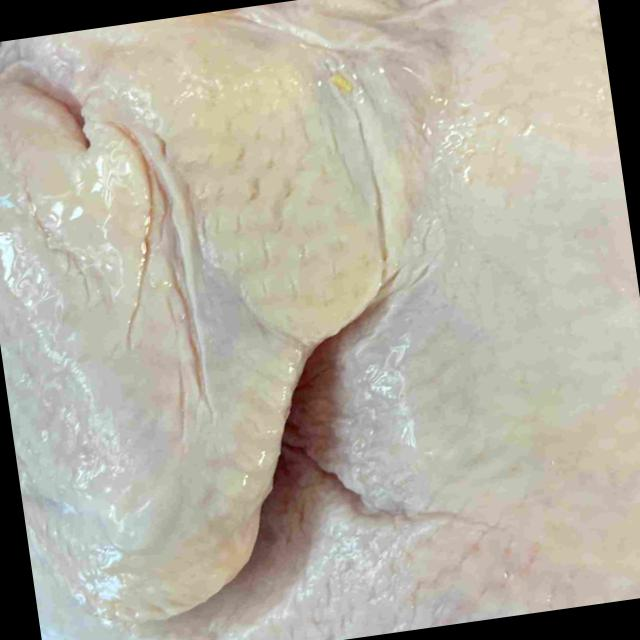back: (212, 16, 640, 640)
leg: (29, 552, 72, 640)
wing: (0, 9, 405, 637)
